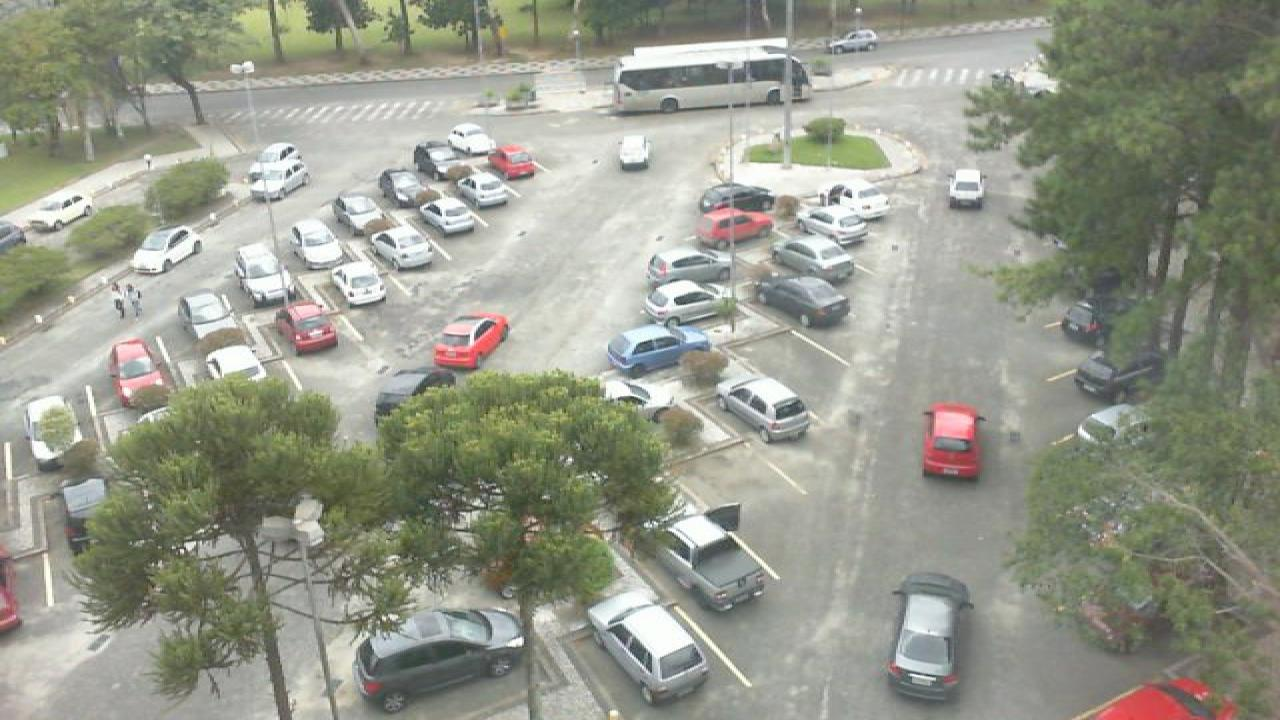Car: (350, 606, 530, 704), (582, 590, 712, 704), (638, 509, 770, 613), (716, 375, 814, 441), (602, 324, 710, 380), (372, 367, 456, 431), (756, 276, 852, 330), (108, 334, 172, 408), (1074, 349, 1160, 404), (432, 309, 508, 369), (1076, 404, 1166, 454), (642, 279, 734, 326), (20, 394, 80, 466), (770, 233, 854, 279), (600, 376, 682, 422), (644, 249, 732, 290), (130, 226, 202, 275), (174, 290, 240, 343), (58, 478, 112, 542), (1060, 298, 1126, 350), (694, 204, 774, 244), (234, 245, 288, 303), (278, 302, 338, 354), (290, 217, 350, 267), (368, 225, 434, 270), (794, 206, 870, 245), (330, 258, 388, 308), (818, 181, 894, 218), (330, 189, 388, 236), (204, 344, 268, 384), (416, 195, 480, 235), (246, 161, 308, 201), (26, 192, 92, 229), (696, 182, 772, 214), (454, 170, 512, 208), (376, 168, 430, 207), (484, 145, 538, 179), (412, 143, 460, 181), (254, 141, 310, 173), (444, 124, 496, 156)
